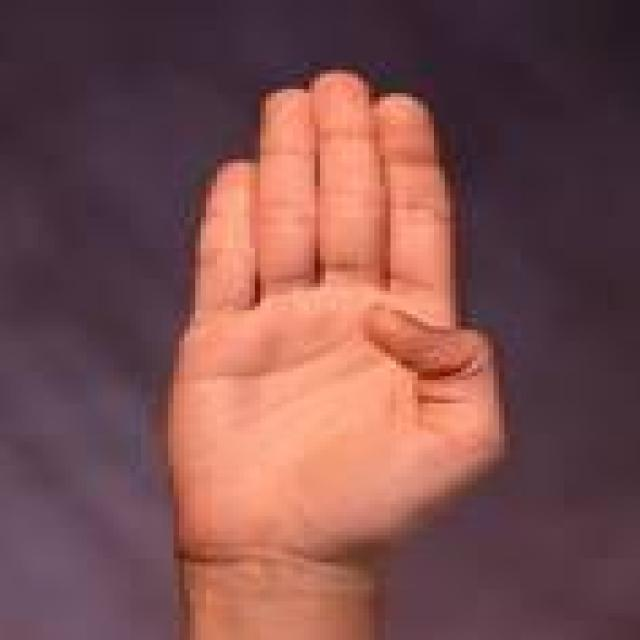B: (138, 56, 518, 572)
